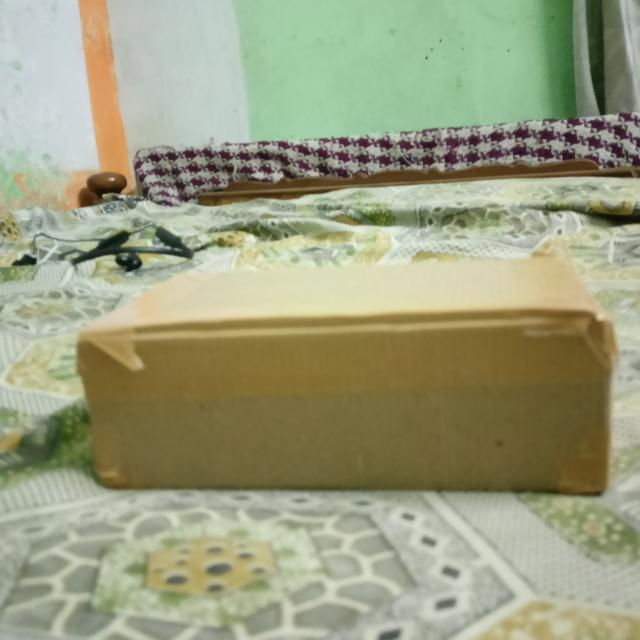box: (80, 321, 612, 501)
